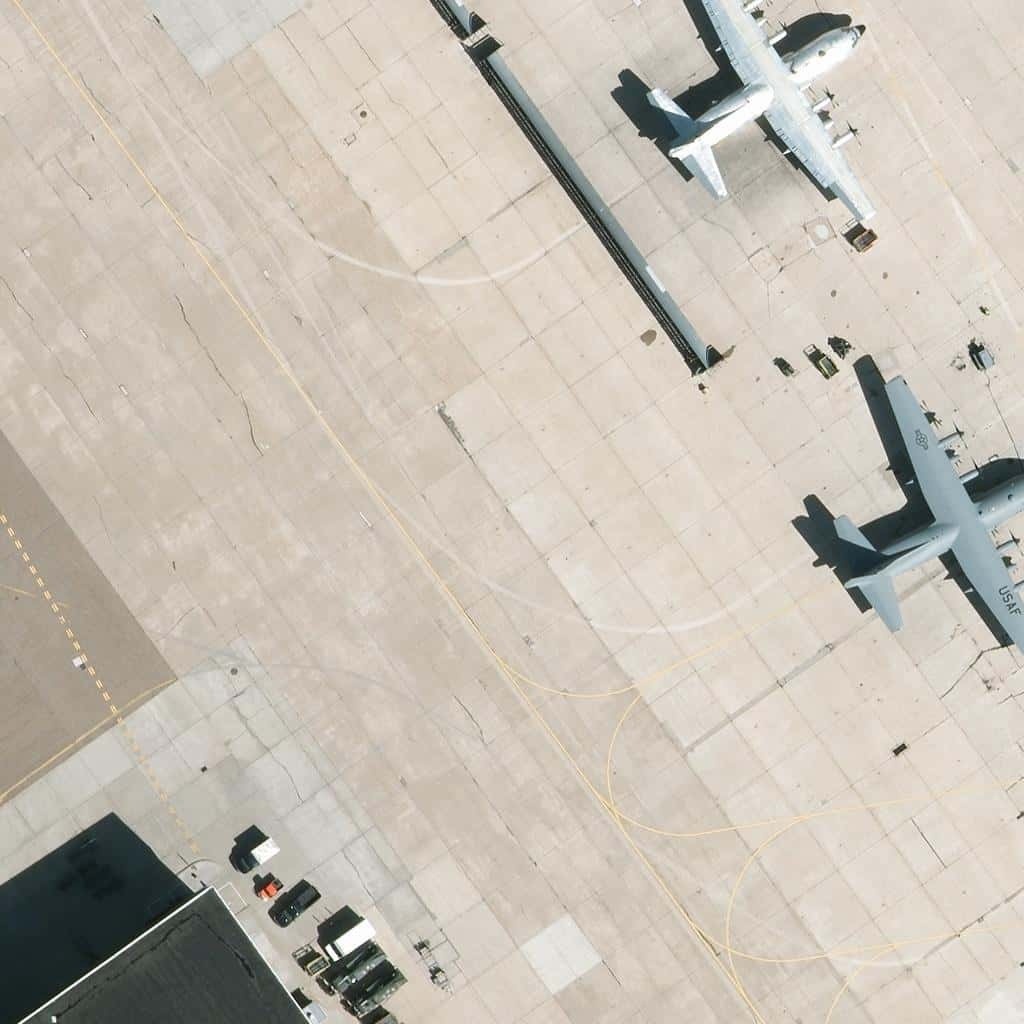plane: (644, 1, 911, 227), (823, 372, 1024, 662)
